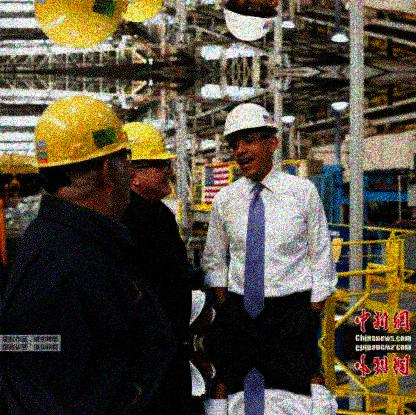helmet: (31, 95, 139, 215), (222, 101, 278, 180), (122, 122, 178, 199)
